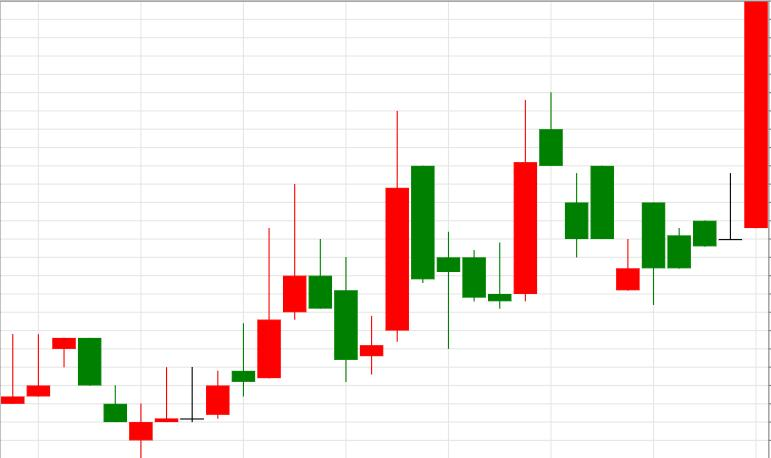shooting_star_fall: (129, 183, 306, 457)
